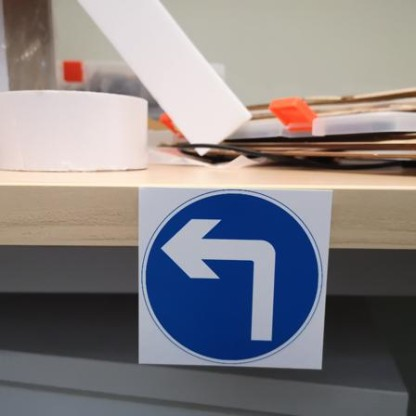left: (128, 170, 332, 375)
